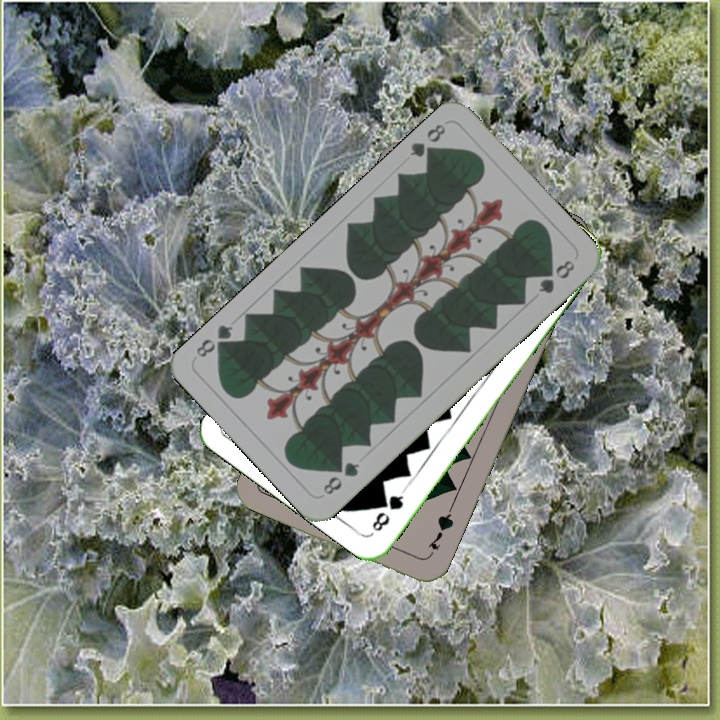G7: (424, 504, 457, 560)
G8: (368, 485, 408, 535), (405, 119, 449, 164), (318, 457, 363, 498)
